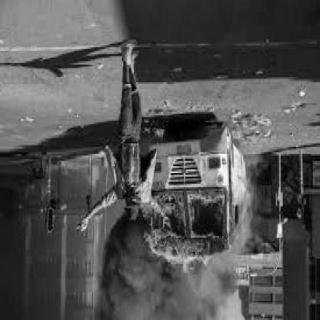Fire: (141, 186, 237, 282)
Smoke: (98, 216, 145, 320)
